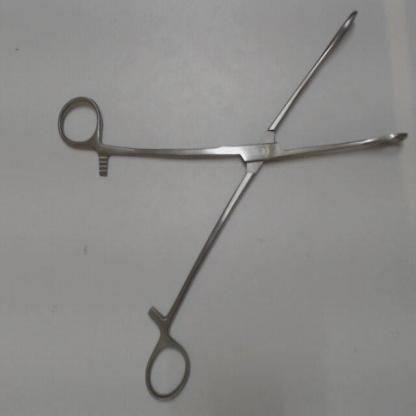Sponge Forceps: (52, 1, 412, 407)
